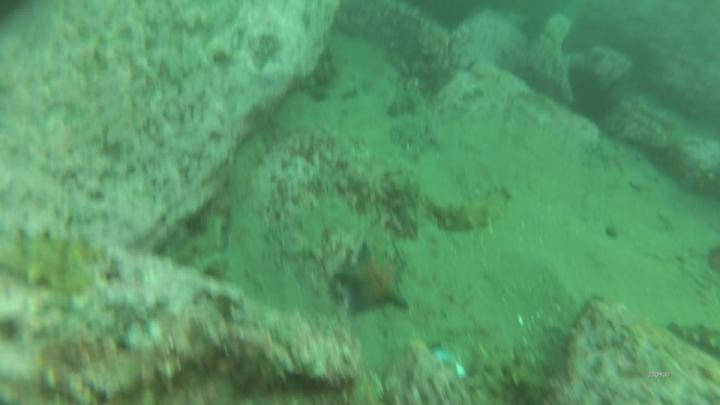holothurian: (1, 225, 105, 292), (436, 185, 515, 236)
starfish: (333, 240, 411, 316)
